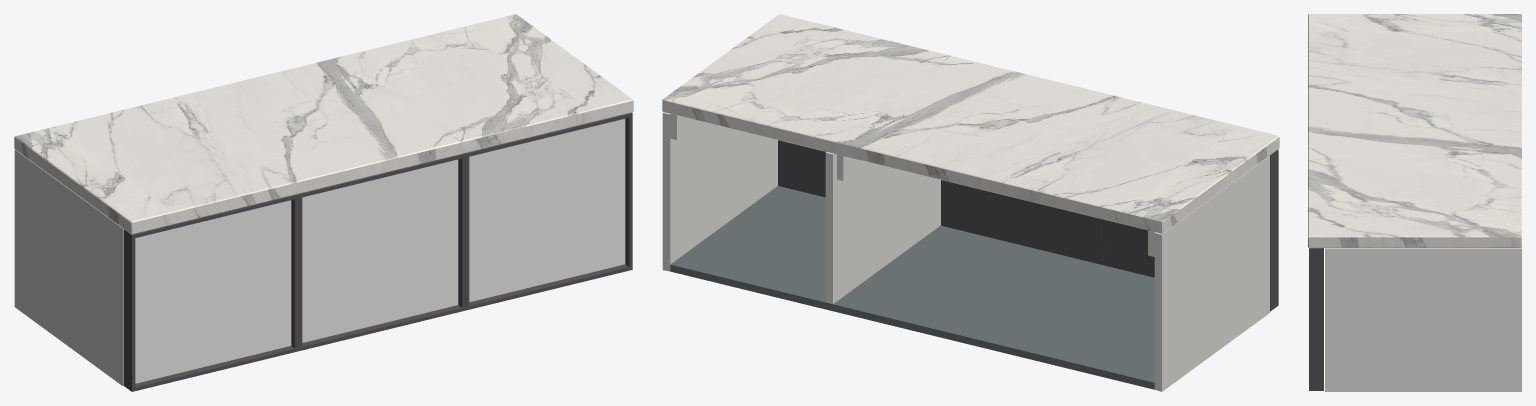
3 renders of one model, left to right at view 1: azimuth 30°, elevation 25°; view 2: azimuth 150°, elevation 25°; view 3: azimuth 270°, elevation 25°, orthographic. The views are drawn at different scales.
Parts seen in each view (by area): view 1: AT03; view 2: AT03; view 3: AT03.
Part boxes in pixels (x1=…): AT03: x1=14, y1=14, x2=633, y2=391; AT03: x1=662, y1=14, x2=1279, y2=391; AT03: x1=1308, y1=14, x2=1521, y2=391.
Bounding box in the file's own units: 1.21 × 0.393 × 0.489.
Materials: 5 (3 with a texture image).
